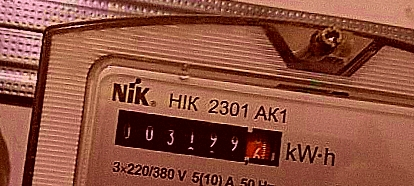0: (118, 118, 132, 140), (141, 120, 155, 141)
1: (185, 125, 197, 144)
3: (163, 126, 176, 145)
6: (251, 143, 262, 160)
9: (206, 128, 219, 149), (227, 132, 239, 152)
screen: (105, 103, 292, 174)
